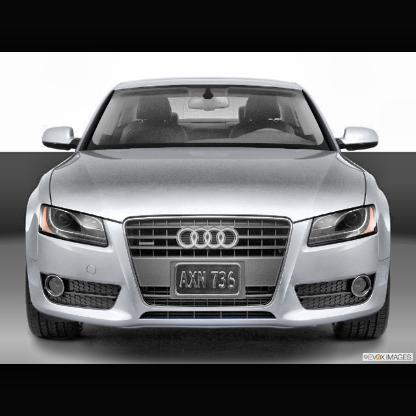Audi A5 Coupe 2012: (25, 90, 394, 349)
